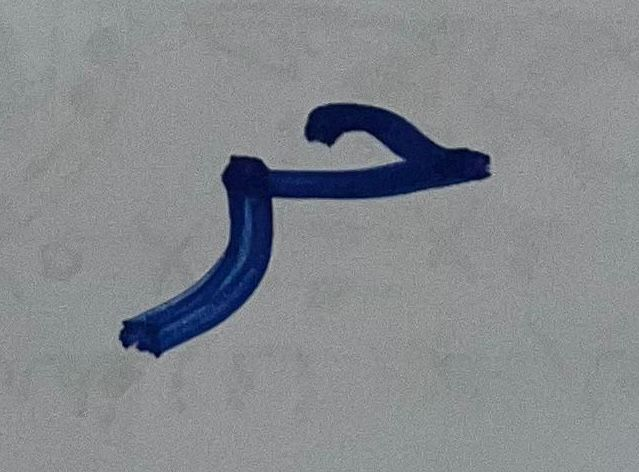hah: (298, 67, 499, 215)
reh: (102, 134, 295, 376)
